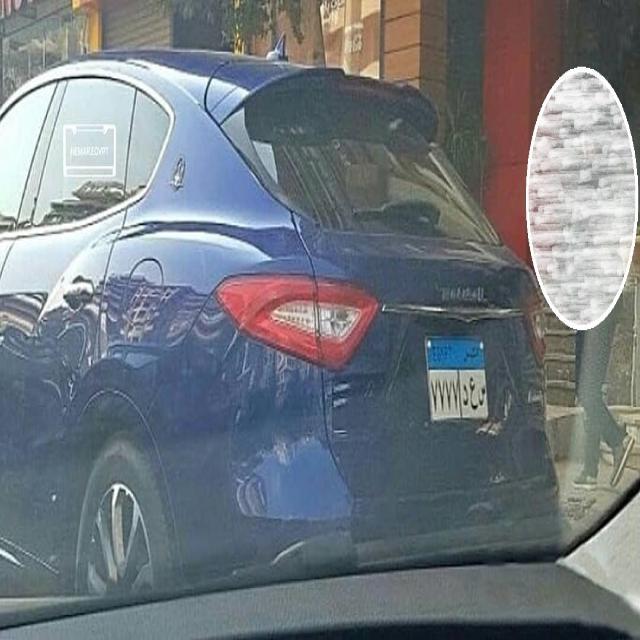License Plate: (422, 324, 492, 426)
